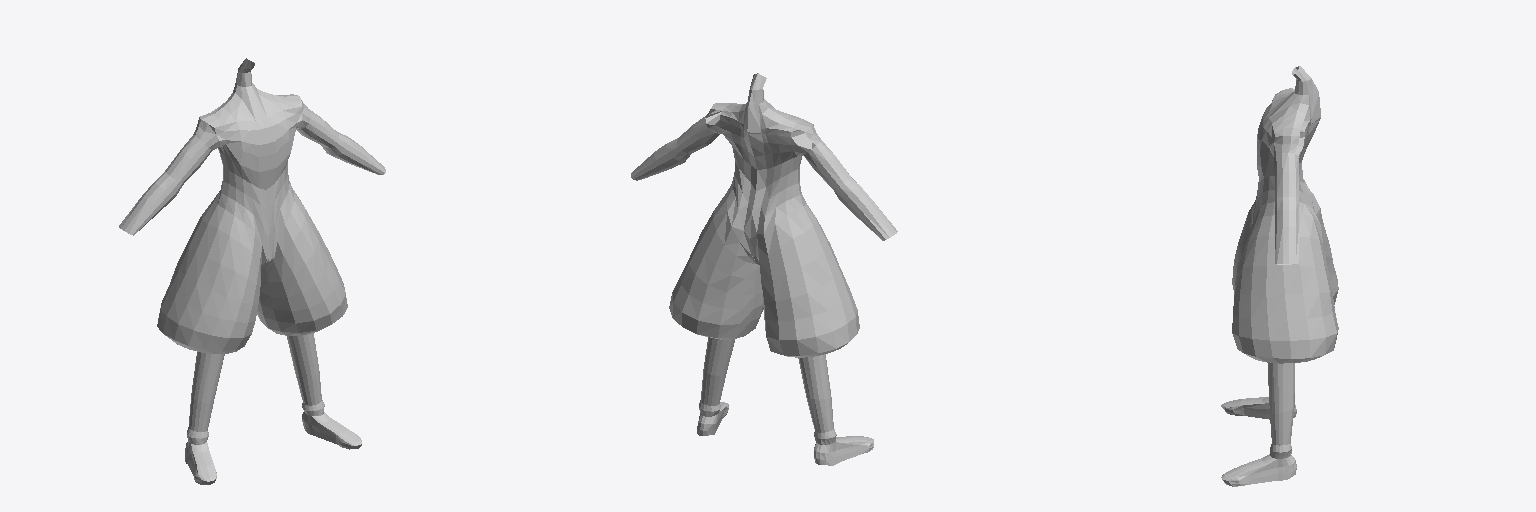
3 views of the same model, side by side, from view 1: azimuth 30°, elevation 25°; view 2: azimuth 150°, elevation 25°; view 3: azimuth 270°, elevation 25° (orthographic).
Parts seen in each view (by area): view 1: polySurface17 base_Mesh, base_Mesh polySurface18; view 2: polySurface17 base_Mesh, base_Mesh polySurface18; view 3: polySurface17 base_Mesh, base_Mesh polySurface18.
Part boxes in pixels (x1,y1,x2,y2): polySurface17 base_Mesh: (119,58,385,353); base_Mesh polySurface18: (185,333,361,484); polySurface17 base_Mesh: (631,73,897,357); base_Mesh polySurface18: (697,337,873,465); polySurface17 base_Mesh: (1232,66,1338,363); base_Mesh polySurface18: (1221,362,1296,486).
Bounding box in the file's own units: 110 × 154 × 42.83.